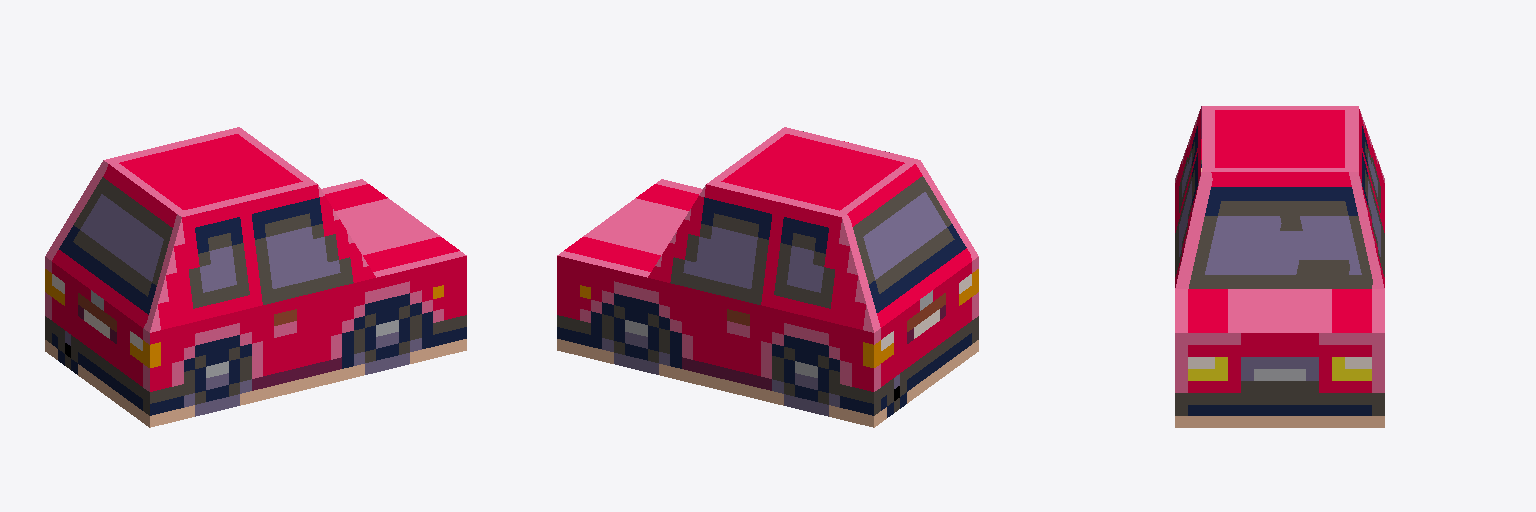
3 renders of one model, left to right at view 1: azimuth 30°, elevation 25°; view 2: azimuth 150°, elevation 25°; view 3: azimuth 270°, elevation 25°, orthographic.
Visible parts, largest first — view 1: redcar; view 2: redcar; view 3: redcar.
Part boxes in pixels (x1,y1,x2,y2): redcar: (45,127,466,427); redcar: (557,127,978,427); redcar: (1175,106,1384,427).
Bounding box in the file's own units: 3.5 × 2 × 2.
Materials: 1 (1 with a texture image).